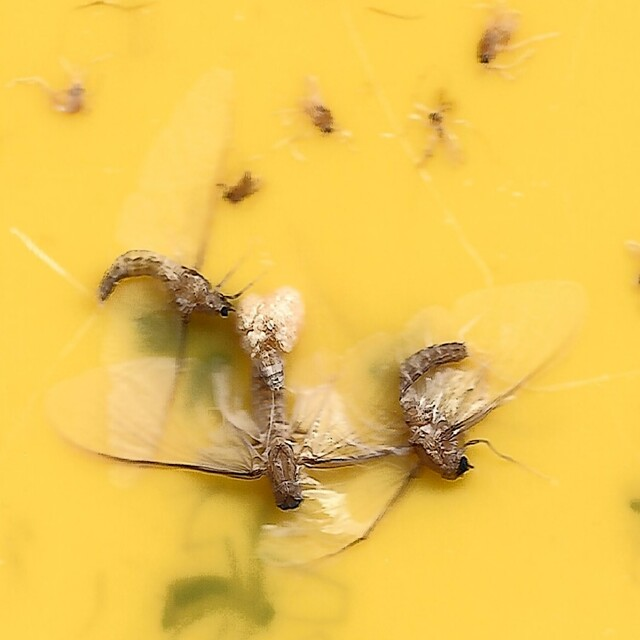Ephemeroptera: (257, 284, 585, 568), (55, 291, 410, 517), (99, 72, 246, 485)
